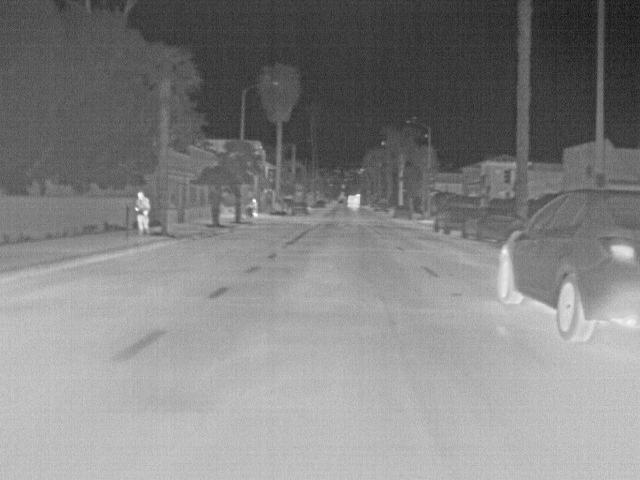car: (495, 189, 640, 345), (462, 210, 525, 245), (434, 195, 481, 235), (291, 202, 311, 218), (392, 206, 413, 220)
person: (136, 188, 152, 236), (249, 196, 260, 220)
